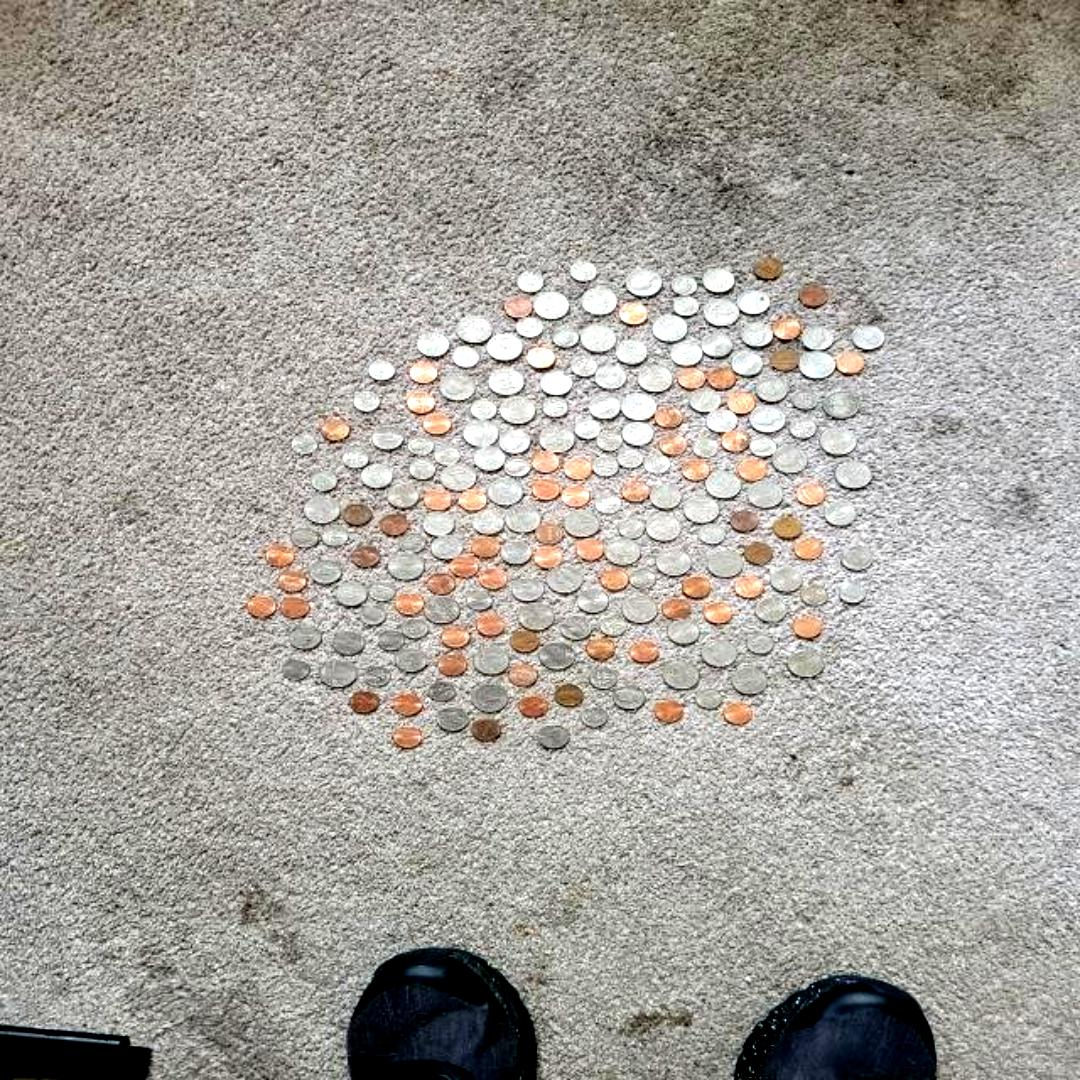Dime: (516, 316, 544, 338), (617, 447, 644, 468), (342, 447, 369, 468), (570, 262, 598, 282), (570, 356, 598, 376), (452, 348, 480, 368), (470, 399, 498, 419), (406, 436, 434, 456), (408, 459, 436, 479), (398, 533, 426, 553), (368, 581, 396, 601), (466, 590, 494, 610), (629, 568, 657, 588), (838, 583, 866, 603), (282, 660, 310, 680), (378, 630, 406, 650), (750, 436, 776, 457), (552, 328, 579, 348), (540, 397, 567, 417), (791, 389, 818, 409), (595, 494, 622, 514), (503, 457, 530, 477), (368, 360, 395, 380), (291, 434, 318, 454), (291, 527, 318, 547), (800, 586, 827, 606), (364, 666, 391, 686), (518, 273, 544, 293), (670, 275, 696, 295), (672, 295, 698, 315), (692, 437, 718, 457), (644, 454, 670, 474), (574, 419, 600, 439), (322, 527, 348, 547), (360, 605, 386, 625), (402, 619, 428, 639), (600, 615, 626, 635), (696, 688, 722, 708), (590, 668, 616, 688), (428, 682, 454, 702), (582, 706, 606, 727), (434, 446, 459, 466), (596, 431, 623, 449), (594, 457, 618, 477), (354, 392, 378, 412), (312, 470, 336, 490), (620, 518, 644, 538), (700, 524, 724, 544), (748, 634, 772, 654), (790, 419, 816, 437)
Nickel: (737, 290, 769, 316), (705, 408, 737, 434), (741, 322, 773, 348), (310, 558, 342, 584), (332, 630, 364, 656), (500, 540, 532, 566), (512, 576, 544, 602), (613, 684, 645, 710), (436, 706, 468, 732), (594, 364, 626, 390), (289, 624, 321, 650), (417, 332, 449, 357), (475, 446, 505, 472), (703, 268, 735, 292), (615, 340, 647, 364), (852, 326, 884, 350), (499, 430, 531, 454), (423, 512, 455, 536), (386, 484, 418, 508), (371, 426, 403, 450), (336, 582, 368, 606), (396, 648, 428, 672), (472, 510, 504, 534), (430, 536, 462, 560), (560, 616, 592, 640), (667, 620, 699, 644), (840, 546, 872, 570), (538, 724, 570, 748), (361, 465, 393, 488), (802, 326, 832, 350), (757, 378, 787, 402), (690, 388, 720, 412), (672, 342, 702, 366), (590, 396, 620, 420), (825, 502, 855, 526), (623, 422, 653, 446), (577, 590, 607, 614), (756, 598, 786, 622), (771, 568, 801, 592), (700, 334, 732, 356), (540, 372, 572, 394), (651, 486, 683, 508), (733, 352, 763, 375)
Penny: (753, 256, 783, 280), (792, 536, 822, 560), (791, 617, 824, 638), (770, 348, 800, 371), (737, 458, 767, 481), (562, 457, 592, 480), (534, 546, 562, 570), (509, 631, 541, 652), (438, 652, 466, 676), (798, 284, 828, 306), (409, 362, 439, 384), (379, 514, 409, 536), (534, 522, 564, 544), (575, 538, 605, 560), (680, 576, 710, 598), (477, 568, 507, 590), (796, 483, 824, 506), (744, 542, 772, 565), (526, 348, 556, 369), (321, 419, 351, 440), (707, 367, 737, 388), (676, 367, 706, 388), (728, 509, 758, 530), (620, 481, 650, 502), (425, 573, 455, 594), (703, 602, 733, 623), (630, 640, 660, 661), (587, 639, 617, 660), (393, 727, 423, 748), (471, 719, 501, 740), (772, 318, 800, 340), (503, 296, 531, 318), (423, 412, 451, 434), (658, 434, 686, 456), (772, 516, 800, 538), (600, 568, 628, 590), (470, 536, 498, 558), (509, 664, 537, 686), (457, 490, 487, 510), (342, 506, 372, 526), (733, 578, 763, 598), (247, 596, 277, 616), (661, 598, 691, 618), (349, 692, 379, 712), (518, 696, 548, 716), (654, 700, 684, 720), (722, 704, 752, 724), (532, 478, 559, 500), (406, 392, 434, 413), (728, 393, 756, 414), (681, 459, 709, 480), (280, 596, 308, 617), (555, 684, 583, 705), (620, 302, 646, 324), (722, 430, 748, 452), (837, 353, 864, 374), (561, 486, 589, 506), (653, 408, 681, 428), (423, 490, 451, 510), (450, 556, 478, 576), (394, 592, 422, 612), (350, 546, 378, 566), (265, 546, 293, 566), (278, 570, 306, 590), (476, 614, 504, 634), (441, 628, 469, 648), (532, 451, 558, 472), (393, 694, 420, 714)
Quarter: (650, 314, 688, 342), (749, 405, 787, 433), (462, 420, 499, 448), (703, 298, 740, 326), (487, 334, 524, 362), (538, 426, 576, 453), (620, 393, 658, 420), (320, 659, 356, 687), (472, 684, 508, 712), (664, 662, 700, 690), (702, 639, 738, 667), (788, 649, 824, 677), (746, 480, 782, 508), (656, 548, 692, 576), (388, 552, 424, 580), (304, 495, 340, 523), (500, 396, 536, 424), (822, 391, 858, 419), (626, 269, 662, 297), (580, 324, 616, 352), (682, 495, 719, 522), (580, 288, 617, 315), (538, 642, 576, 668), (518, 604, 556, 630), (473, 647, 508, 675), (440, 373, 475, 401), (822, 426, 857, 454), (705, 471, 740, 499), (488, 368, 524, 395), (645, 514, 682, 540), (799, 352, 836, 378), (606, 537, 640, 565), (488, 478, 522, 506), (424, 596, 460, 622), (622, 596, 658, 622), (564, 510, 600, 536), (546, 566, 582, 592), (504, 506, 540, 532), (440, 464, 476, 490), (638, 366, 674, 392), (772, 446, 808, 472), (836, 462, 872, 488), (456, 316, 492, 342), (534, 291, 568, 318), (708, 551, 742, 578), (732, 668, 766, 694)
